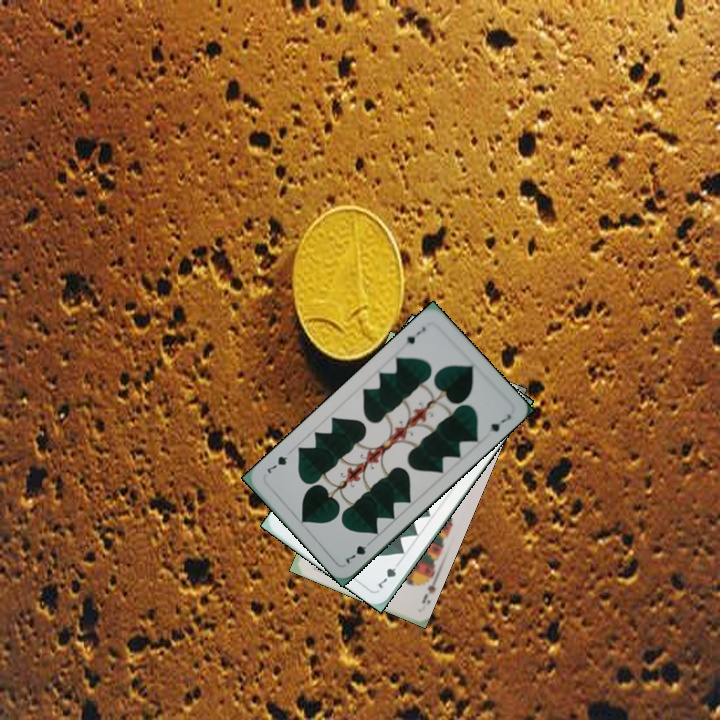G7: (373, 556, 404, 592), (342, 536, 375, 567), (398, 322, 428, 349)
S9: (418, 570, 441, 606)
